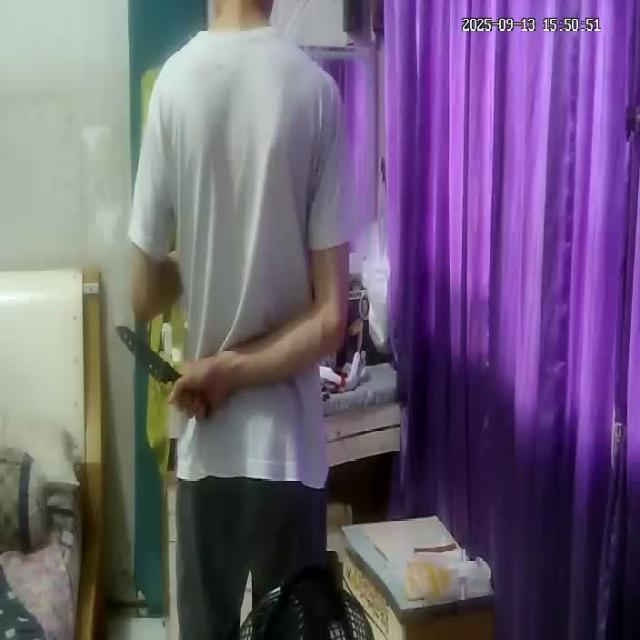senjata_tajam: (112, 322, 178, 388)
